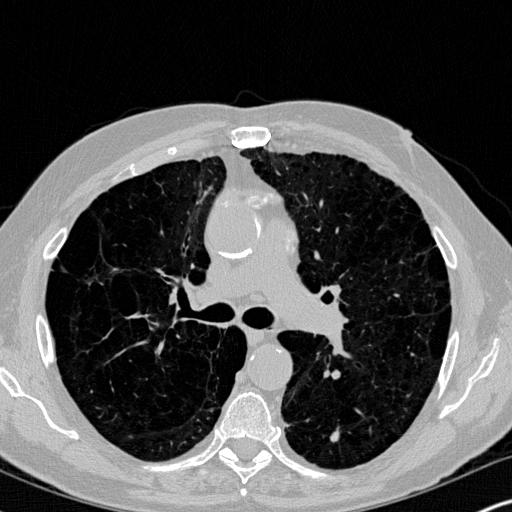nodule: (327, 427, 344, 444)
